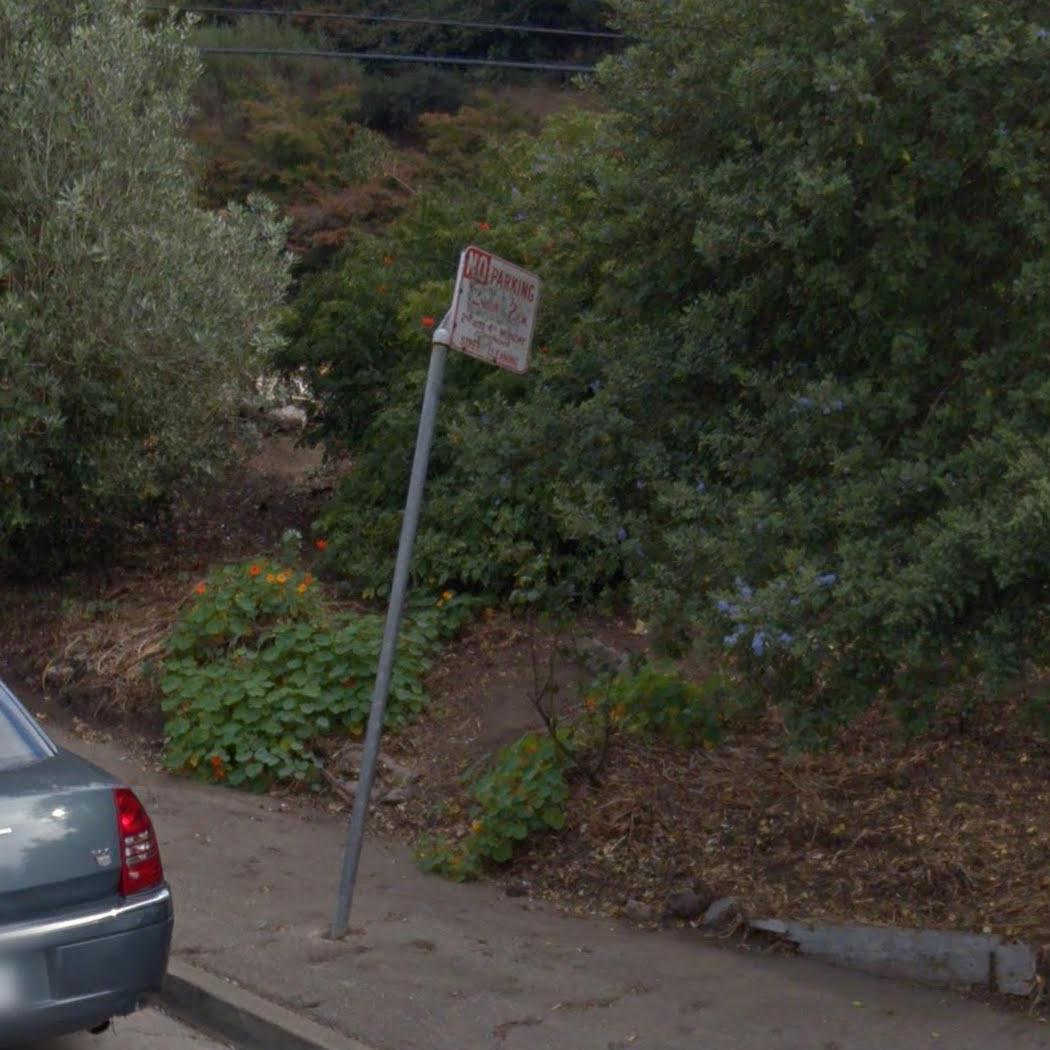No Parking: (434, 240, 550, 381)
